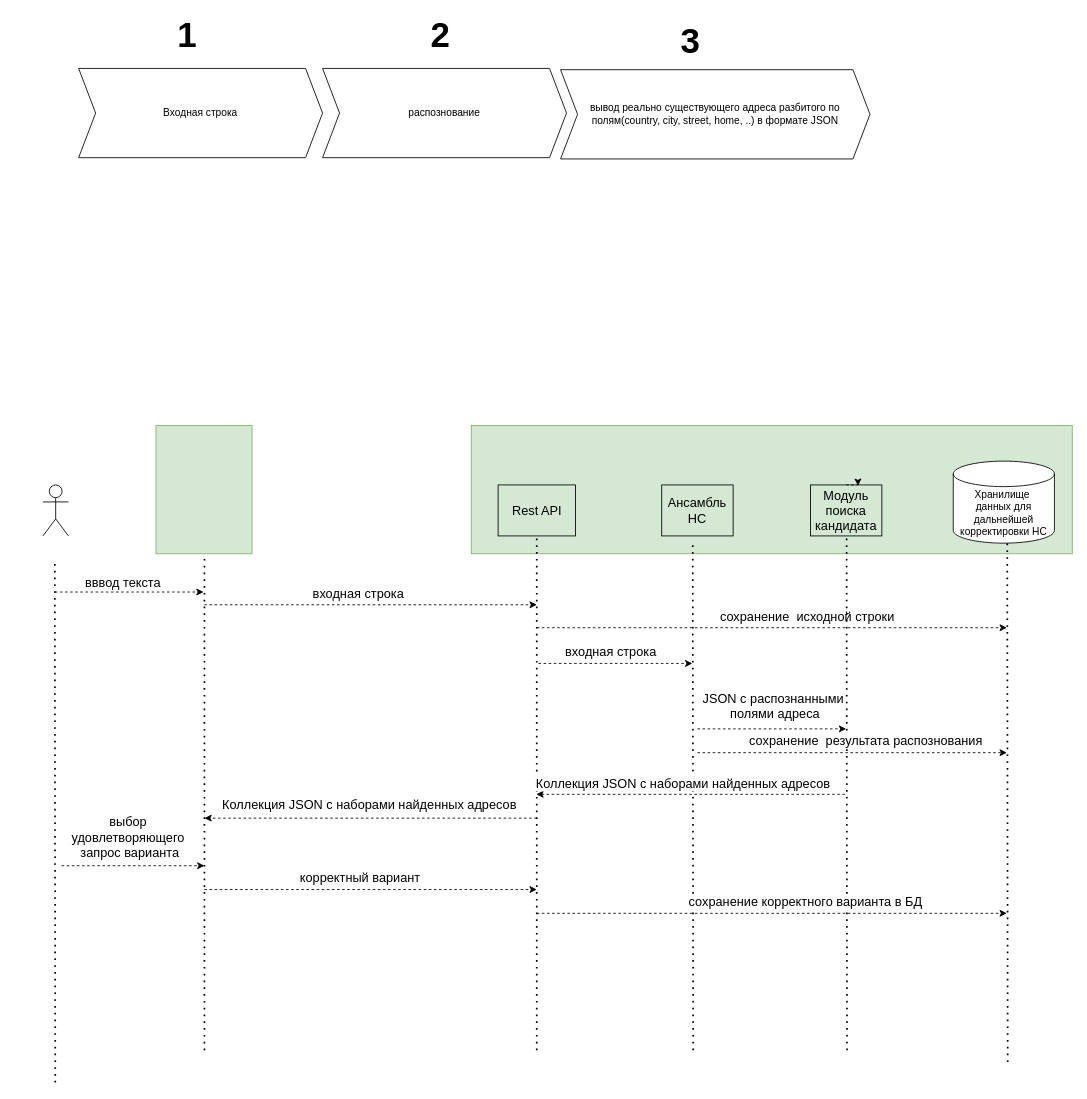
Some shapes in this 1087 by 1099 pixel diagram are drawn without their labels. Here are the shapes that lost their labels. From the top down, the box of each, then its label:
(155, 425, 252, 554): Клиентcкое приложение
(470, 425, 1072, 554): Сервер
(42, 484, 68, 536): Пользователь
